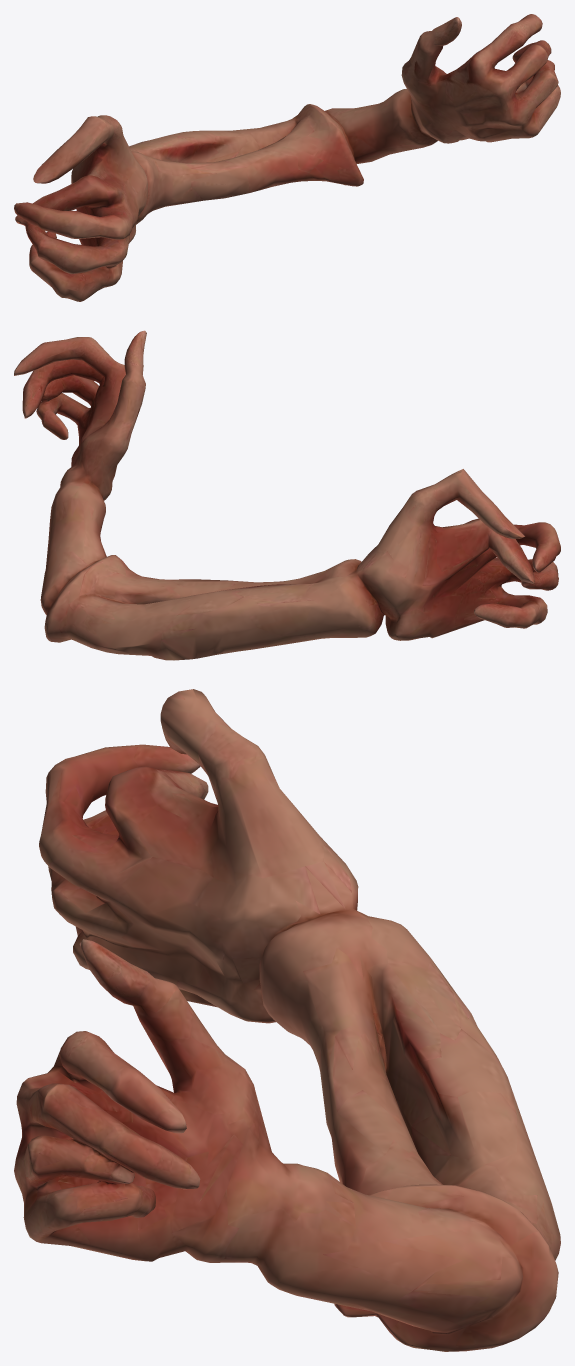
File: upperarm.glb
The picture shows the model from 3 angles, top to bottom: view 1: azimuth 30°, elevation 25°; view 2: azimuth 150°, elevation 25°; view 3: azimuth 270°, elevation 25°; orthographic projection. The views are drawn at different scales.
Visible parts, largest first — view 1: Mesh_0; view 2: Mesh_0; view 3: Mesh_0.
Boxes of the visible parts, bbox=[...] form: Mesh_0: bbox=[14, 14, 560, 301]; Mesh_0: bbox=[14, 330, 560, 660]; Mesh_0: bbox=[14, 689, 560, 1351].
Bounding box in the file's own units: 1.9 × 0.7808 × 0.8946.
1 material, 1 textured.
